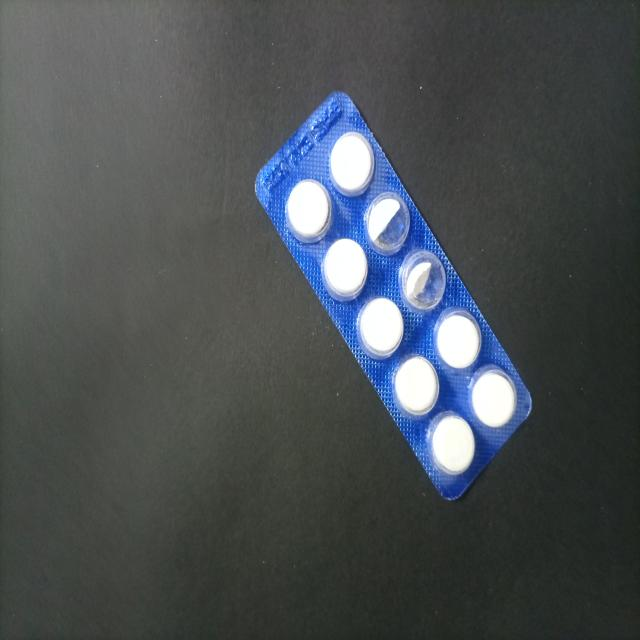defect: (363, 189, 411, 256), (400, 250, 449, 315)
